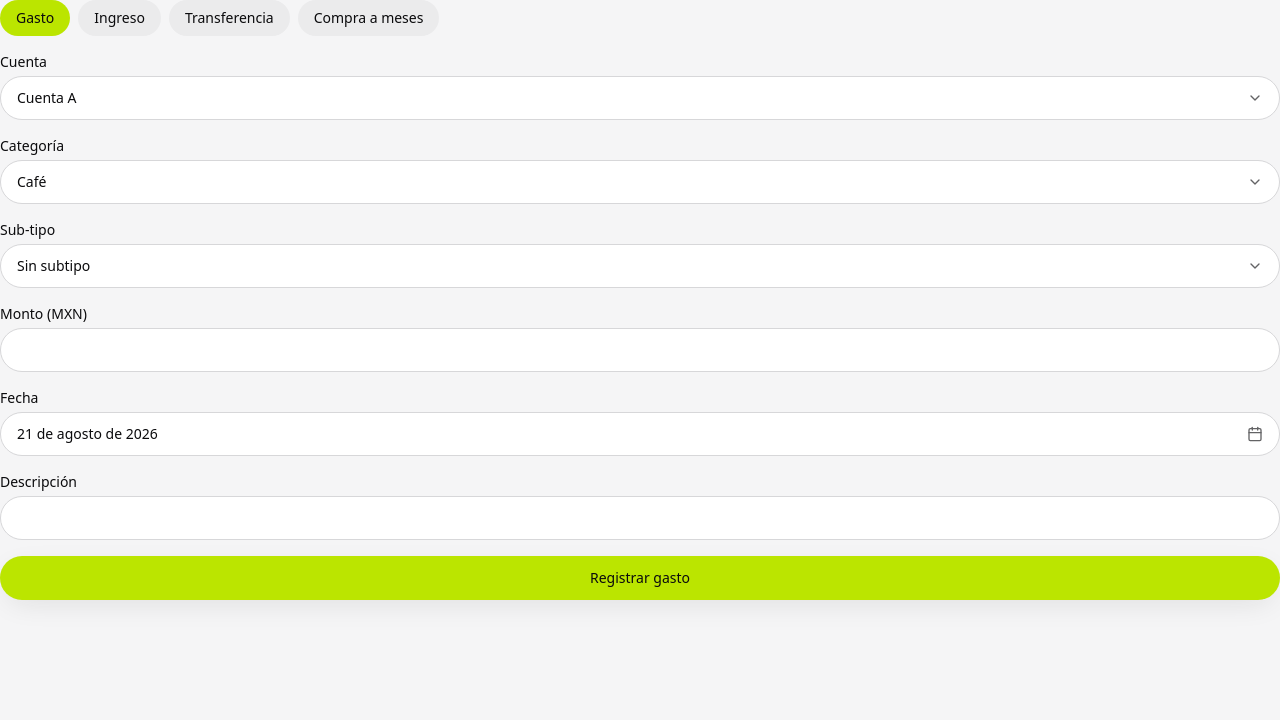
Test: TransactionForm — over-budget confirmation gate (B-011) › shows the confirmation dialog when the entered expense crosses the limit and does not submit immediately
The image size is (1280, 720).
In the number field labelled "Monto (MXN)": (640, 350) x1=0 y1=328 x2=1279 y2=372, type "20"
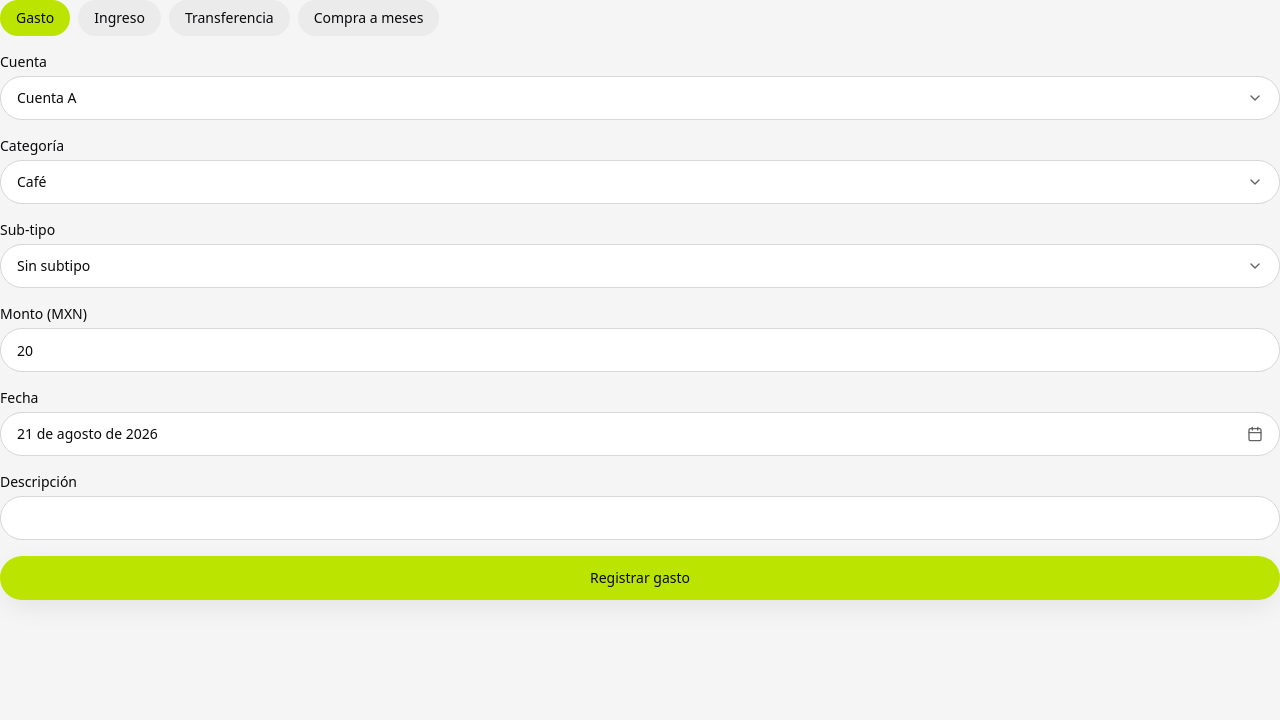
Click the button "Registrar gasto": (640, 578) x1=0 y1=556 x2=1279 y2=600
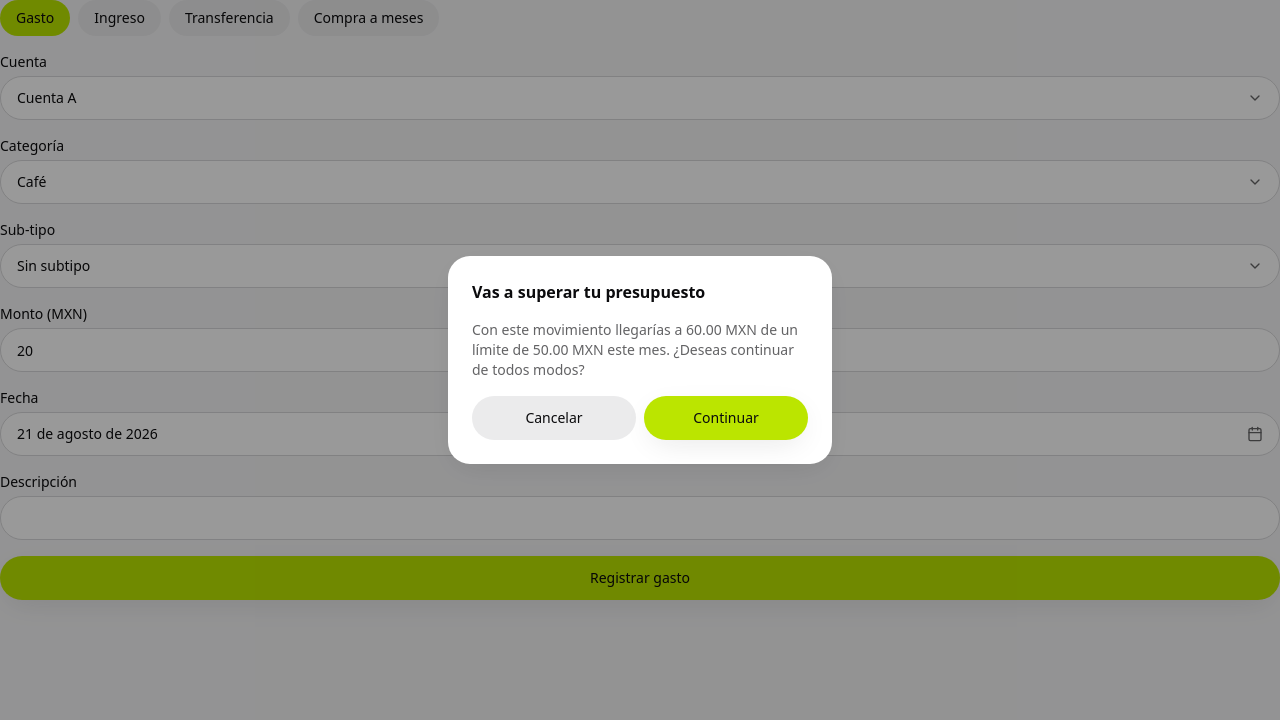
Expected: the heading "Vas a superar tu presupuesto" is shown, x1=472 y1=281 x2=705 y2=303
